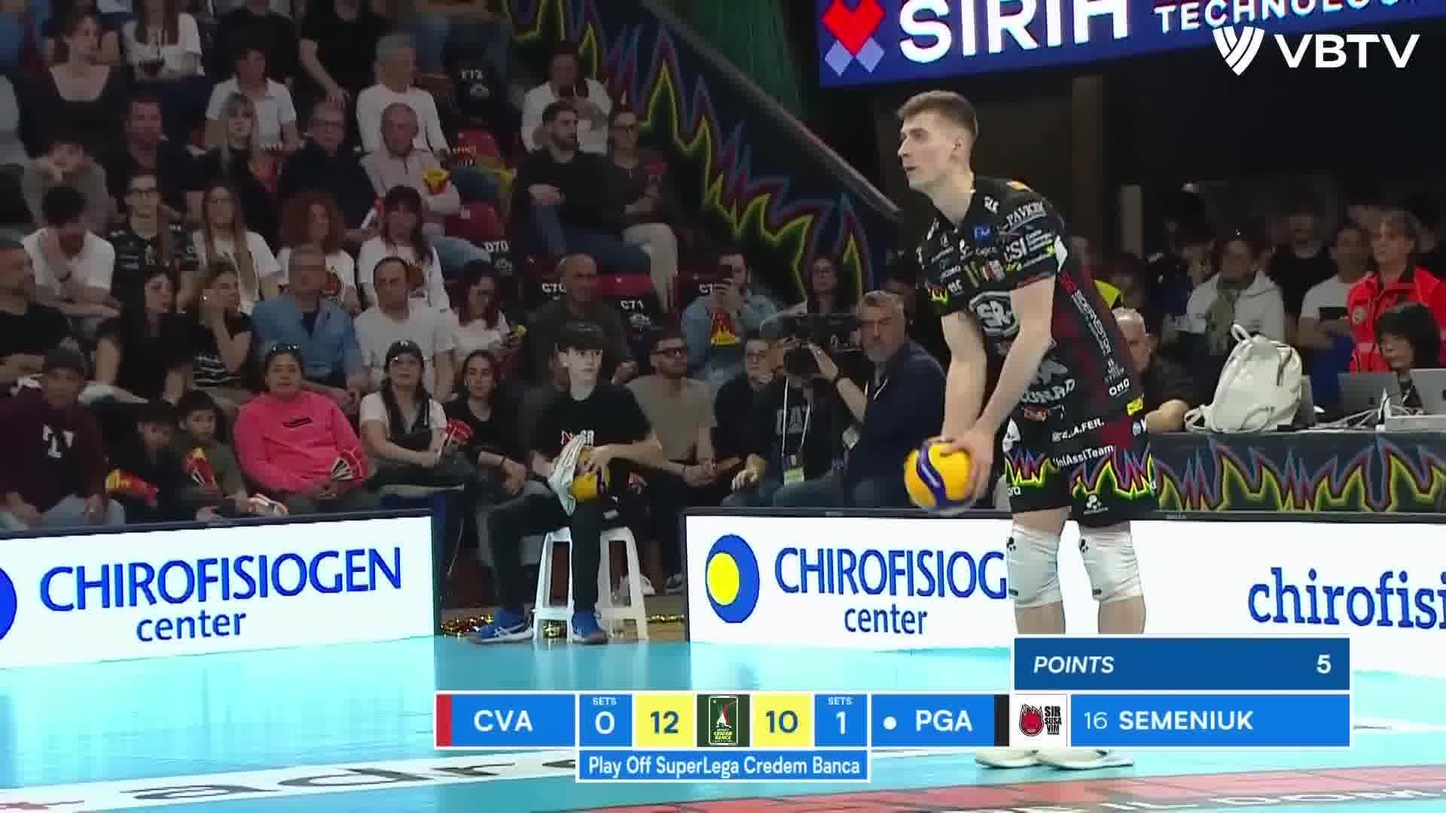balls: (893, 429, 991, 518)
